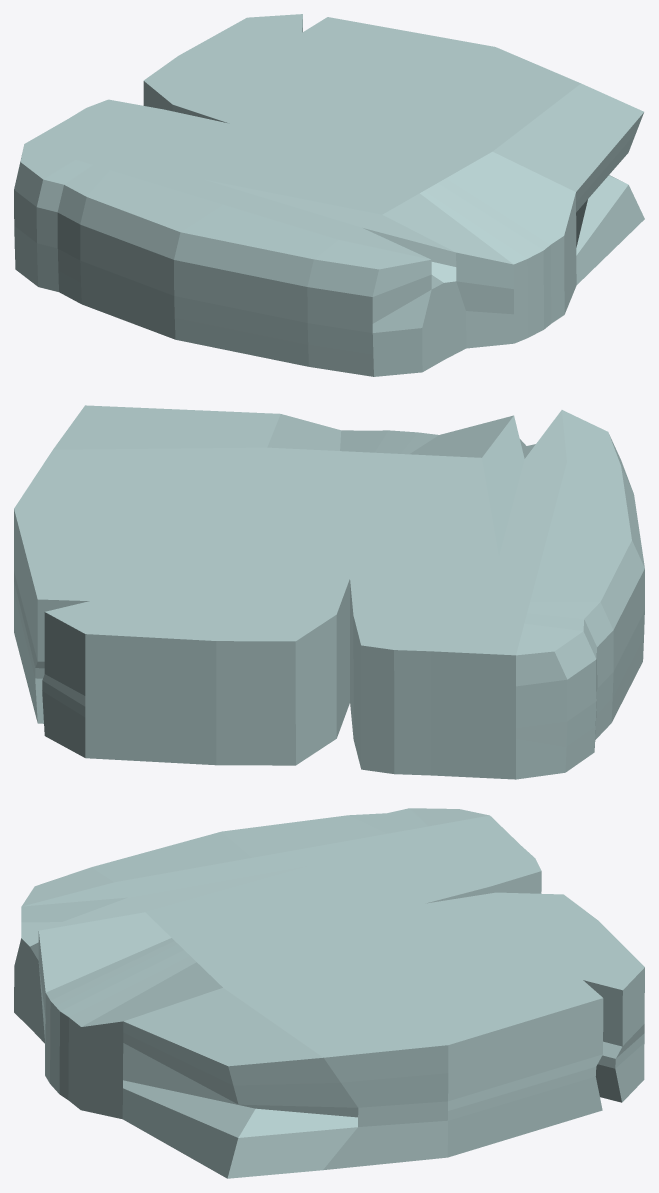
3 renders of one model, top to bottom at view 1: azimuth 30°, elevation 25°; view 2: azimuth 150°, elevation 25°; view 3: azimuth 270°, elevation 25°, orthographic. The views are drawn at different scales.
Visible parts, largest first — view 1: Cube.011; view 2: Cube.011; view 3: Cube.011.
Part boxes in pixels (x1=…): Cube.011: x1=14, y1=14, x2=644, y2=376; Cube.011: x1=14, y1=405, x2=644, y2=779; Cube.011: x1=14, y1=808, x2=644, y2=1178.
Size of the model in its own units: 70.86 by 14.89 by 70.43.
